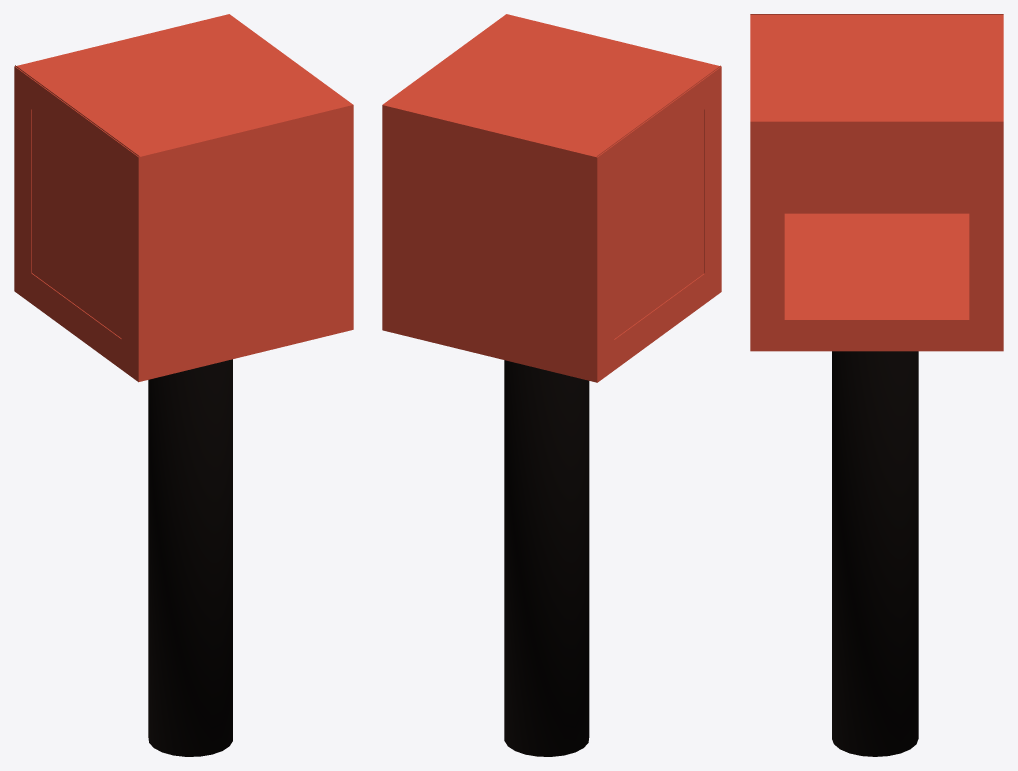
The model's file is orange_box.dae.
3 renders of one model, left to right at view 1: azimuth 30°, elevation 25°; view 2: azimuth 150°, elevation 25°; view 3: azimuth 270°, elevation 25°, orthographic. The views are drawn at different scales.
Visible parts, largest first — view 1: Cube, Cylinder, Plane; view 2: Cube, Cylinder, Plane; view 3: Cube, Cylinder, Plane.
Boxes of the visible parts, x1,y1,x2,y2 form: Cube: (14,14,353,382); Cylinder: (148,359,232,756); Plane: (15,65,139,338); Cube: (382,14,721,382); Cylinder: (504,360,589,756); Plane: (596,65,720,338); Cube: (750,15,1003,351); Cylinder: (832,351,918,756); Plane: (750,14,1003,213).
Size of the model in its own units: 1 by 1 by 2.91.
